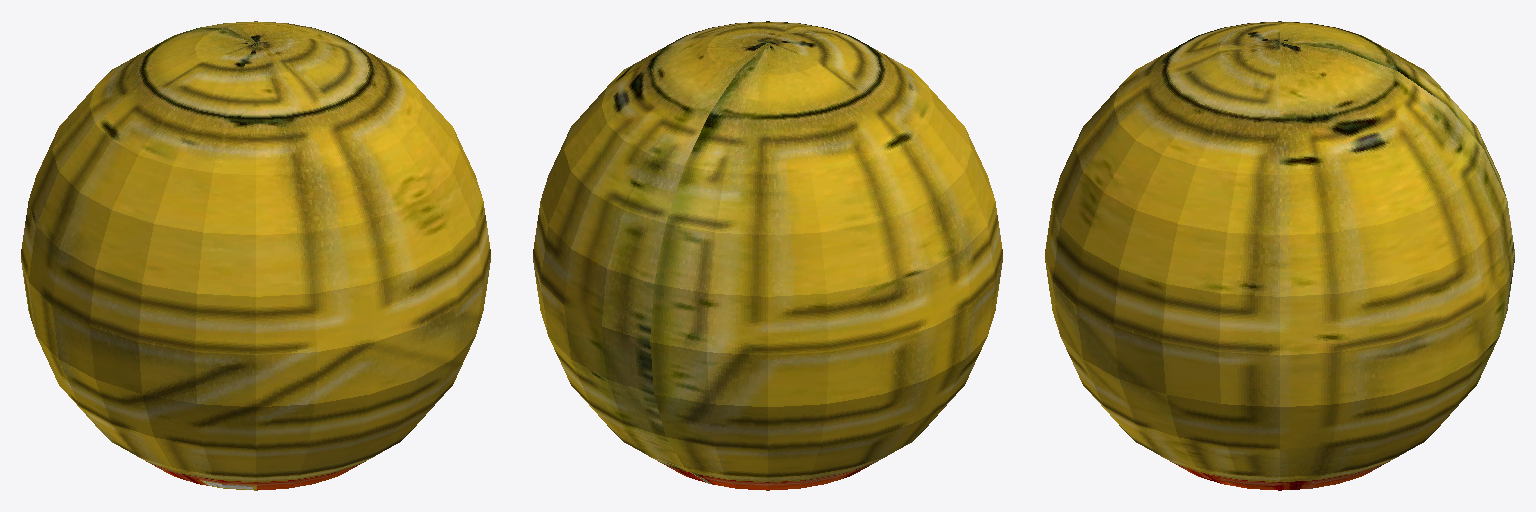
3 views of the same model, side by side, from view 1: azimuth 30°, elevation 25°; view 2: azimuth 150°, elevation 25°; view 3: azimuth 270°, elevation 25° (orthographic).
Visible parts, largest first — view 1: Sphere001; view 2: Sphere001; view 3: Sphere001.
Part boxes in pixels (bbox=[...]): Sphere001: bbox=[21, 21, 490, 490]; Sphere001: bbox=[533, 21, 1002, 490]; Sphere001: bbox=[1045, 21, 1514, 490].
Bounding box in the file's own units: 28.47 × 28.47 × 28.47.
Materials: 1 (1 with a texture image).